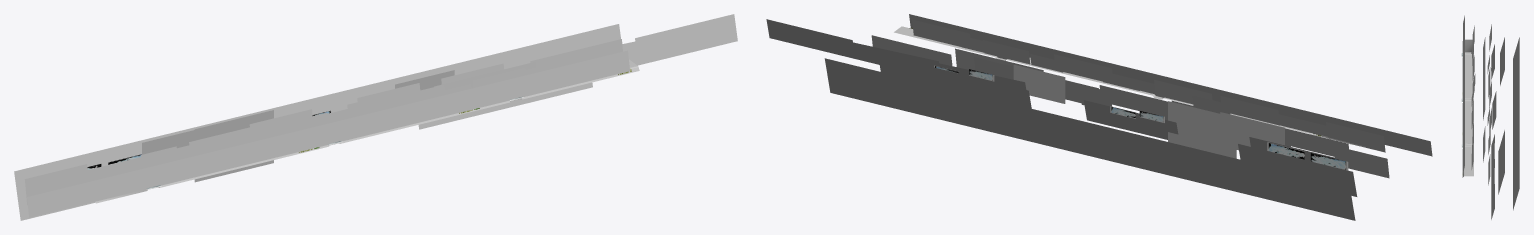
File: BG_Saryeoni_divide.FBX
3 views of the same model, side by side, from view 1: azimuth 30°, elevation 25°; view 2: azimuth 150°, elevation 25°; view 3: azimuth 270°, elevation 25° (orthographic). The views are drawn at different scales.
Visible parts, largest first — view 1: near_object_saryeoni_02, near_object_saryeoni_01, near_object_saryeoni_03, near_object_saryeoni_04, sky_saryeoni_01, halla2_saryeoni_02, sky_saryeoni_03, sky_saryeoni_04, halla1_saryeoni_10, halla1_saryeoni_09, waterfall_2_saryeoni, waterfall_1_saryeoni_01 (+17 smaller); view 2: sky_saryeoni_03, sky_saryeoni_01, sky_saryeoni_02, sky_saryeoni_04, waterfall_2_saryeoni, halla2_saryeoni_02, halla2_saryeoni_01, near_object_saryeoni_01, waterfall_1_saryeoni_02, waterfall_1_saryeoni_01, near_object_saryeoni_03, near_object_saryeoni_04 (+26 smaller); view 3: halla2_saryeoni_02, sky_saryeoni_04, sky_saryeoni_02, sky_saryeoni_03, sky_saryeoni_01, halla2_saryeoni_01, ground_saryeoni_01, ground_saryeoni_09, ground_saryeoni_012, ground_saryeoni_05, ground_saryeoni_06, ground_saryeoni_04 (+34 smaller).
Boxes of the visible parts, left/top/right/bottom form: near_object_saryeoni_02: left=177, top=124, right=329, bottom=180; near_object_saryeoni_01: left=27, top=160, right=179, bottom=217; near_object_saryeoni_03: left=327, top=87, right=479, bottom=143; near_object_saryeoni_04: left=477, top=50, right=629, bottom=107; sky_saryeoni_01: left=14, top=134, right=165, bottom=220; halla2_saryeoni_02: left=418, top=40, right=592, bottom=129; sky_saryeoni_03: left=316, top=60, right=468, bottom=145; sky_saryeoni_04: left=468, top=24, right=620, bottom=68; halla1_saryeoni_10: left=684, top=14, right=737, bottom=52; halla1_saryeoni_09: left=635, top=26, right=687, bottom=65; waterfall_2_saryeoni: left=194, top=110, right=273, bottom=182; waterfall_1_saryeoni_01: left=142, top=125, right=216, bottom=154; sky_saryeoni_03: left=956, top=90, right=1092, bottom=156; sky_saryeoni_01: left=1218, top=154, right=1355, bottom=220; sky_saryeoni_02: left=1087, top=122, right=1224, bottom=188; sky_saryeoni_04: left=824, top=58, right=961, bottom=124; waterfall_2_saryeoni: left=1168, top=101, right=1236, bottom=158; halla2_saryeoni_02: left=878, top=54, right=1031, bottom=108; halla2_saryeoni_01: left=1238, top=144, right=1357, bottom=196; near_object_saryeoni_01: left=1300, top=109, right=1432, bottom=156; waterfall_1_saryeoni_02: left=1013, top=64, right=1065, bottom=103; waterfall_1_saryeoni_01: left=1220, top=112, right=1284, bottom=150; near_object_saryeoni_03: left=1039, top=46, right=1170, bottom=83; near_object_saryeoni_04: left=909, top=14, right=1040, bottom=57; halla2_saryeoni_02: left=1498, top=130, right=1504, bottom=194; sky_saryeoni_04: left=1513, top=151, right=1519, bottom=210; sky_saryeoni_02: left=1513, top=75, right=1519, bottom=133; sky_saryeoni_03: left=1513, top=113, right=1519, bottom=171; sky_saryeoni_01: left=1513, top=37, right=1519, bottom=95; halla2_saryeoni_01: left=1500, top=37, right=1504, bottom=85; ground_saryeoni_01: left=1462, top=39, right=1473, bottom=53; ground_saryeoni_09: left=1462, top=130, right=1473, bottom=146; ground_saryeoni_012: left=1462, top=166, right=1473, bottom=177; ground_saryeoni_05: left=1462, top=85, right=1473, bottom=101; ground_saryeoni_06: left=1462, top=101, right=1473, bottom=112; ground_saryeoni_04: left=1462, top=75, right=1473, bottom=86.
Size of the model in its own units: 16640 by 1515 by 2225.
